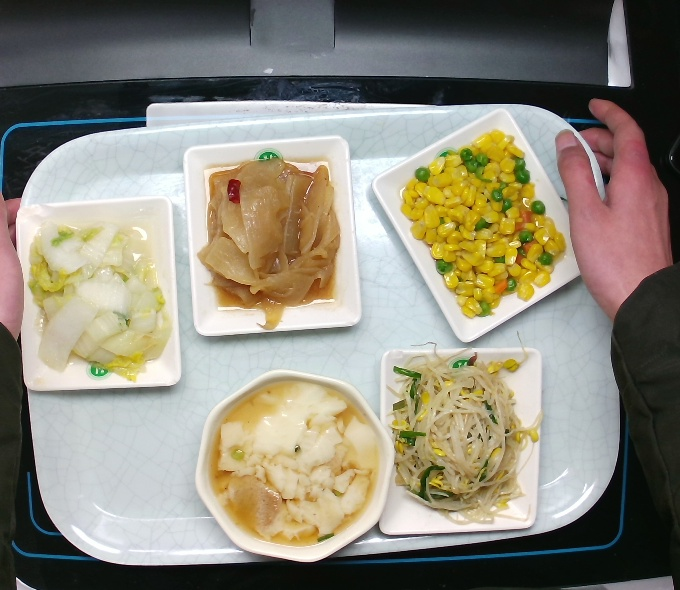wcq-DaBaiCai: (23, 215, 178, 386)
wcq-DongGua: (195, 153, 349, 335)
wcq-DouYa: (384, 329, 546, 527)
wcq-ShuiZhengDan: (203, 377, 384, 552)
wcq-TianMiTianDou: (395, 124, 570, 325)
